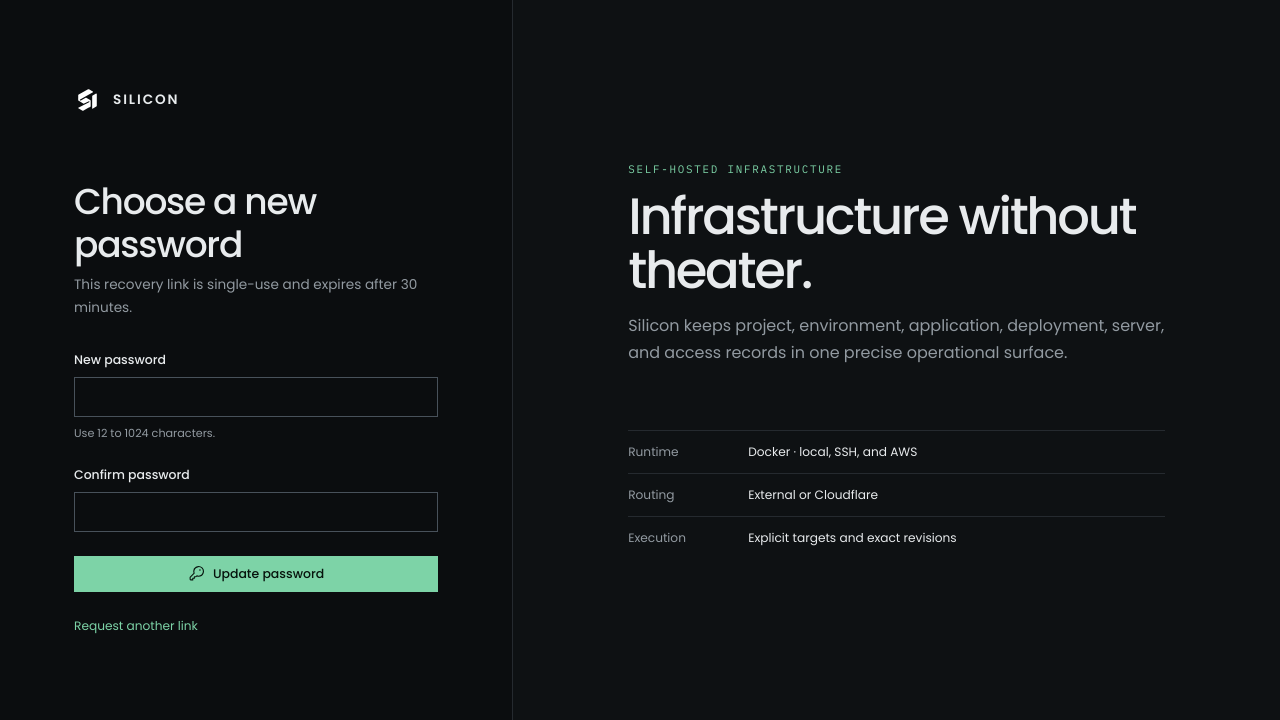
Test: password recovery pages › submits the exact token and confirmed password
Type "replacement password" into the password field labelled "New password Use 12 to 1024 characters." at (256, 397), box [74,377,438,417]
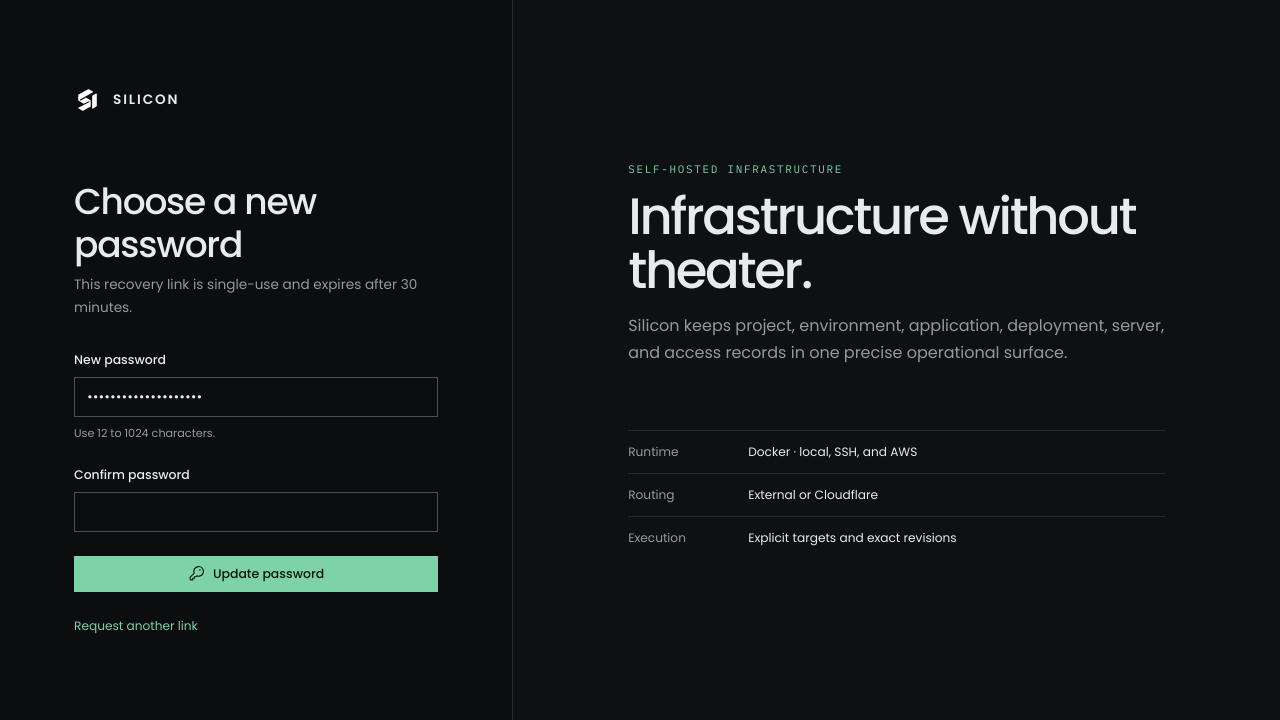
Type "replacement password" into the password field labelled "Confirm password" at (256, 512), box [74,492,438,532]
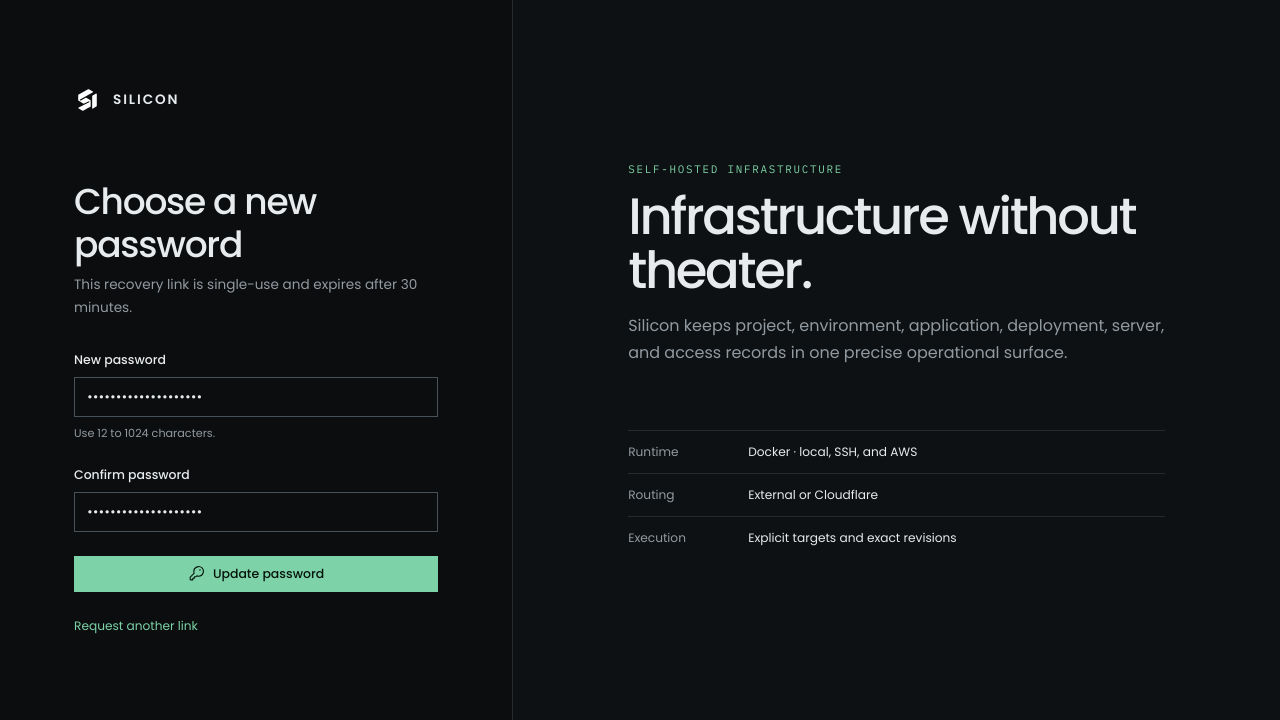
Click the button "Update password" at (256, 574), box [74,556,438,592]
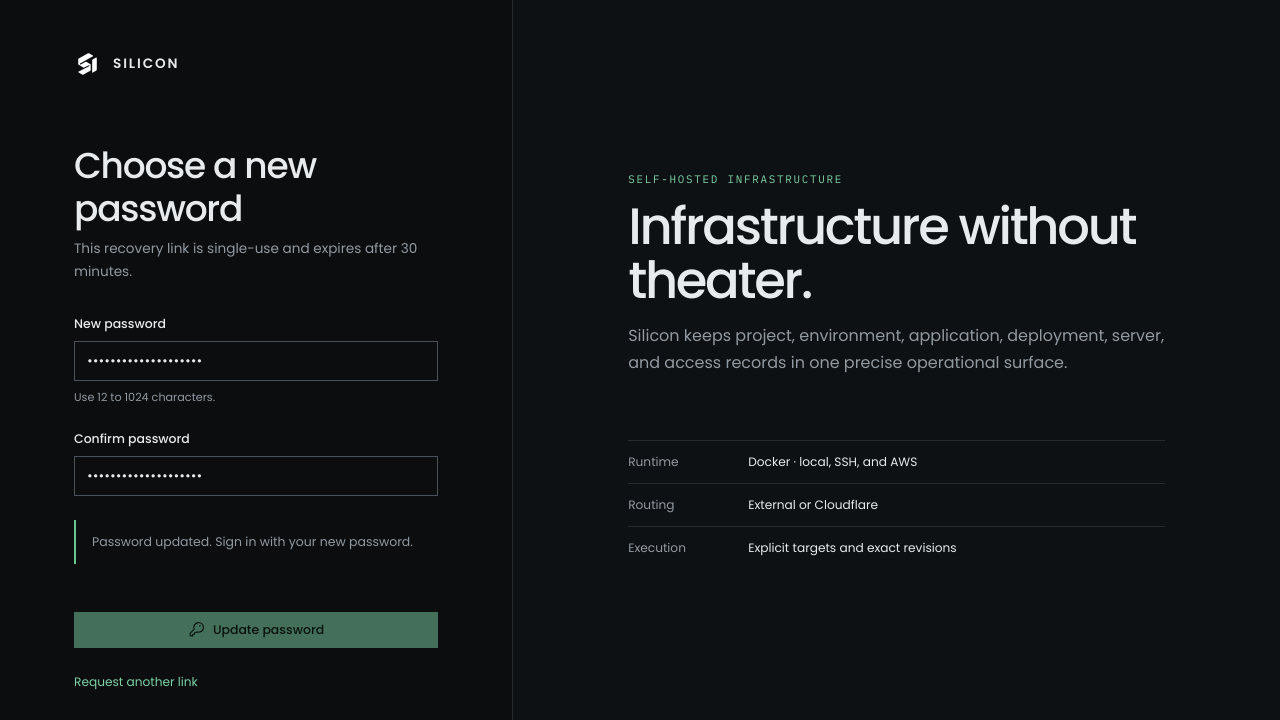
Expected: the text "Password updated. Sign in with your new password." is shown, [74,520,438,564]
